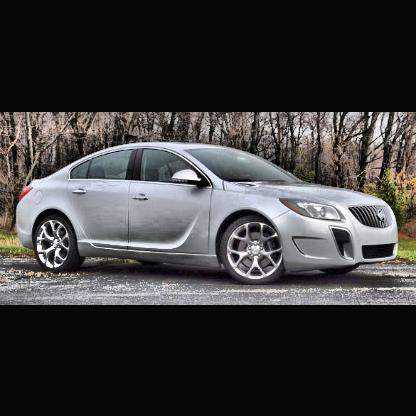Buick Regal GS 2012: (16, 142, 401, 288)
